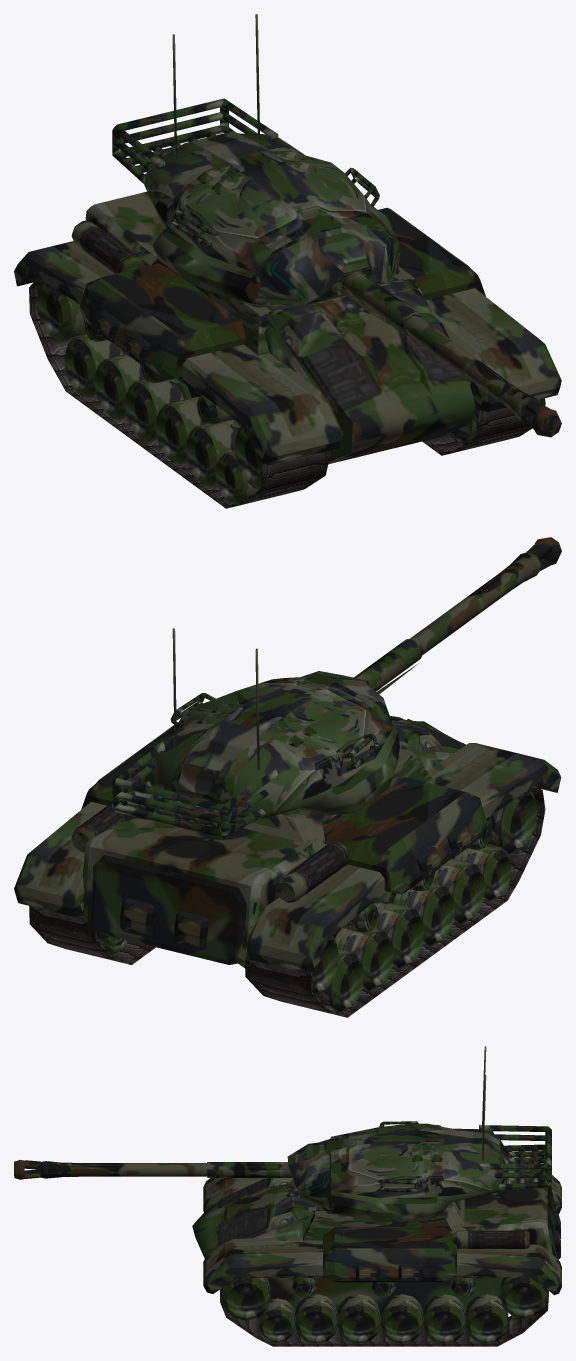
Rendered from abrams-object188a.glb.
3 renders of one model, top to bottom at view 1: azimuth 30°, elevation 25°; view 2: azimuth 150°, elevation 25°; view 3: azimuth 270°, elevation 25°, orthographic. The views are drawn at different scales.
Size of the model in its own units: 2.03 by 1.98 by 4.14.
3 materials, 3 textured.
